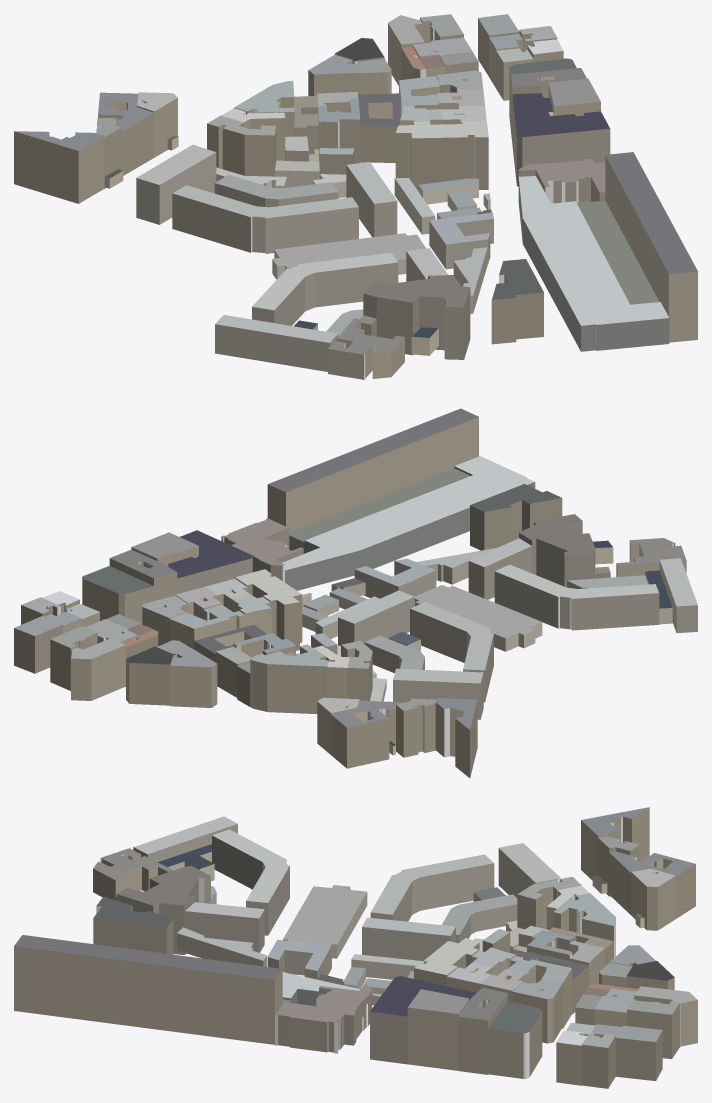
3 renders of one model, top to bottom at view 1: azimuth 30°, elevation 25°; view 2: azimuth 150°, elevation 25°; view 3: azimuth 270°, elevation 25°, orthographic. The views are drawn at different scales.
Visible parts, largest first — view 1: tuile; view 2: tuile; view 3: tuile.
Part boxes in pixels (x1,y1,x2,y2): tuile: [14, 14, 697, 379]; tuile: [14, 408, 697, 777]; tuile: [14, 807, 697, 1088].
Bounding box in the file's own units: 270 × 40.62 × 315.
